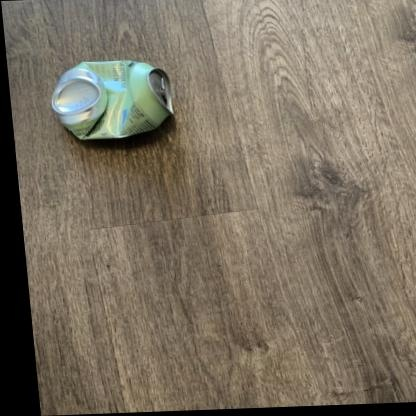trash: (51, 60, 172, 139)
